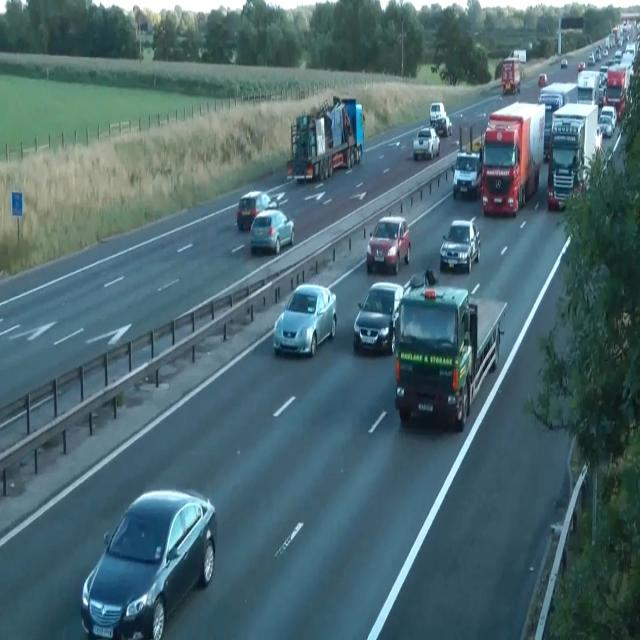bus: (81, 488, 217, 639), (273, 283, 337, 357), (391, 268, 436, 352), (352, 281, 403, 354), (366, 215, 410, 275), (440, 216, 480, 273), (249, 209, 294, 255), (236, 189, 277, 232), (452, 150, 482, 199), (402, 268, 436, 300), (412, 126, 440, 160), (434, 115, 452, 137), (430, 102, 446, 124), (538, 73, 547, 87), (614, 50, 622, 63), (588, 51, 595, 65), (560, 58, 568, 68), (577, 61, 585, 71), (602, 47, 608, 56)
jeep: (597, 104, 617, 137)
minibus: (392, 282, 508, 431), (479, 100, 545, 217), (286, 95, 364, 182), (547, 102, 603, 212), (538, 82, 578, 161), (603, 63, 630, 120), (577, 69, 601, 106), (501, 58, 521, 94), (506, 49, 526, 63)
